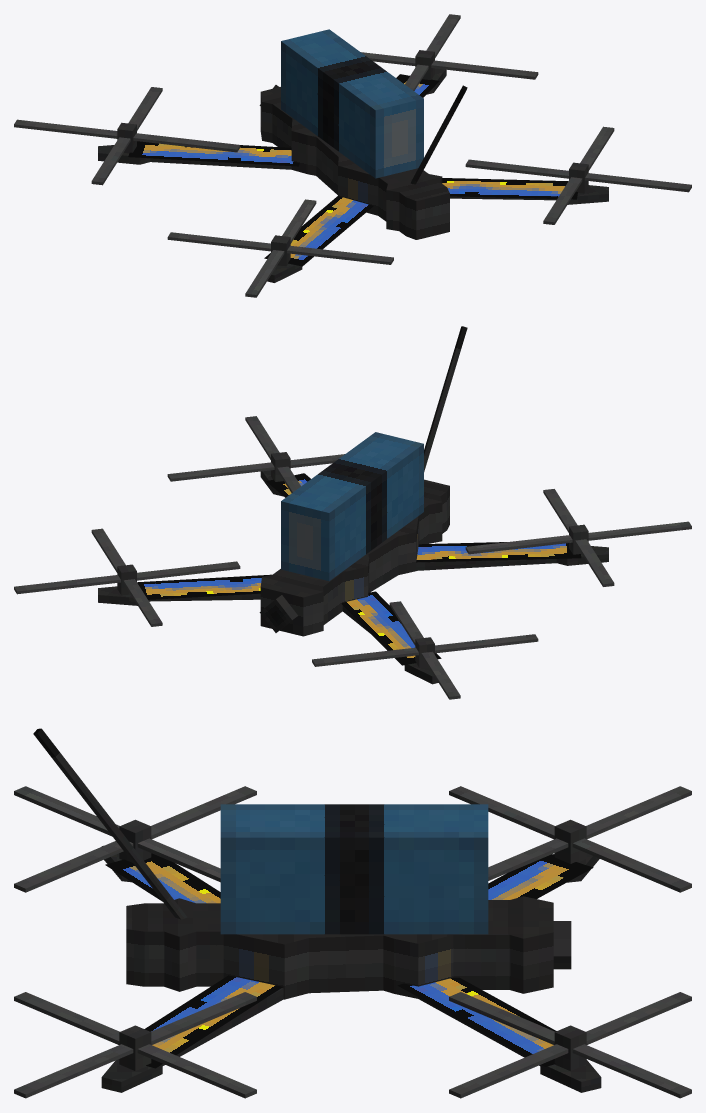
File: fpv_drone_cubed.glb
3 views of the same model, one above another, from view 1: azimuth 30°, elevation 25°; view 2: azimuth 150°, elevation 25°; view 3: azimuth 270°, elevation 25° (orthographic). The views are drawn at different scales.
Parts seen in each view (by area): view 1: Object_2; view 2: Object_2; view 3: Object_2.
Boxes of the visible parts, bbox=[...] form: Object_2: bbox=[14, 14, 691, 297]; Object_2: bbox=[14, 326, 691, 699]; Object_2: bbox=[14, 728, 691, 1098].
Bounding box in the file's own units: 7.65 × 2.83 × 7.11.
Materials: 1 (1 with a texture image).
